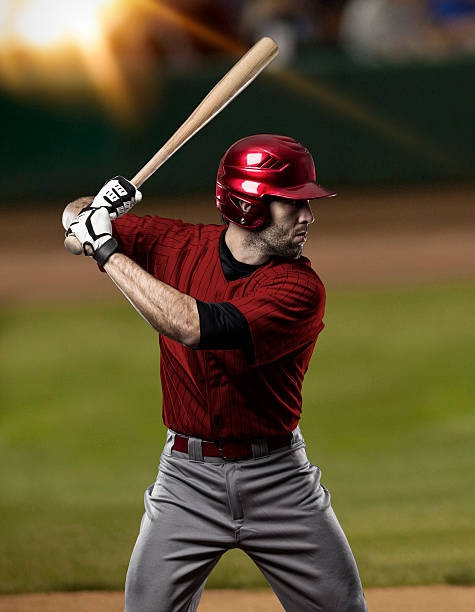bita: (91, 34, 275, 207)
